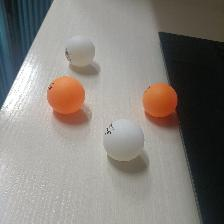WhiteBall: (102, 119, 144, 163), (64, 35, 96, 66)
YellowBall: (45, 75, 85, 113), (141, 82, 177, 116)
